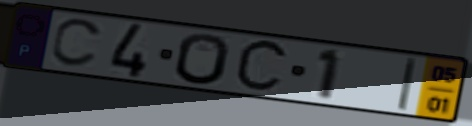1: (314, 48, 343, 103)
4: (108, 21, 150, 81)
C: (231, 37, 292, 95), (48, 17, 107, 70)
I: (394, 56, 420, 114)
O: (173, 32, 233, 87)
